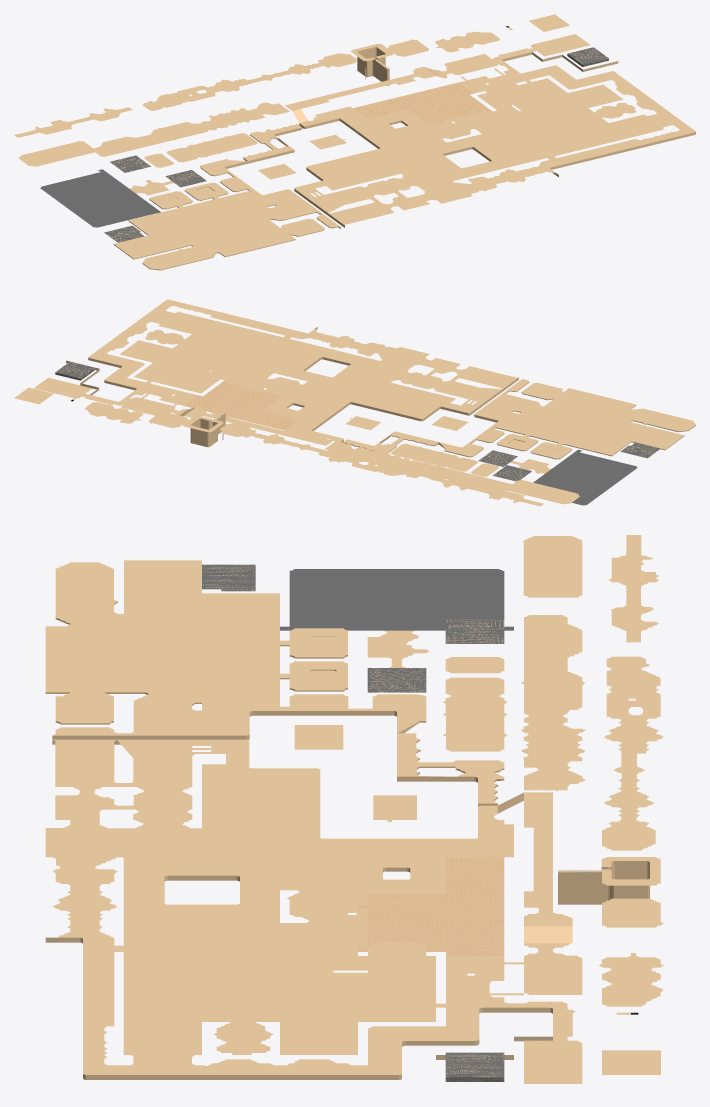
File: Map_Land.dae
3 renders of one model, top to bottom at view 1: azimuth 30°, elevation 25°; view 2: azimuth 150°, elevation 25°; view 3: azimuth 270°, elevation 25°, orthographic. The views are drawn at different scales.
Visible parts, largest first — view 1: instance_0 (×18); view 2: instance_0 (×19); view 3: instance_0 (×22).
Part boxes in pixels (bbox=[...]): instance_0 (×18): bbox=[14, 14, 695, 270]; instance_0 (×19): bbox=[14, 299, 695, 506]; instance_0 (×22): bbox=[45, 535, 663, 1083].
Bounding box in the file's own units: 10079 × 4991 × 398.
